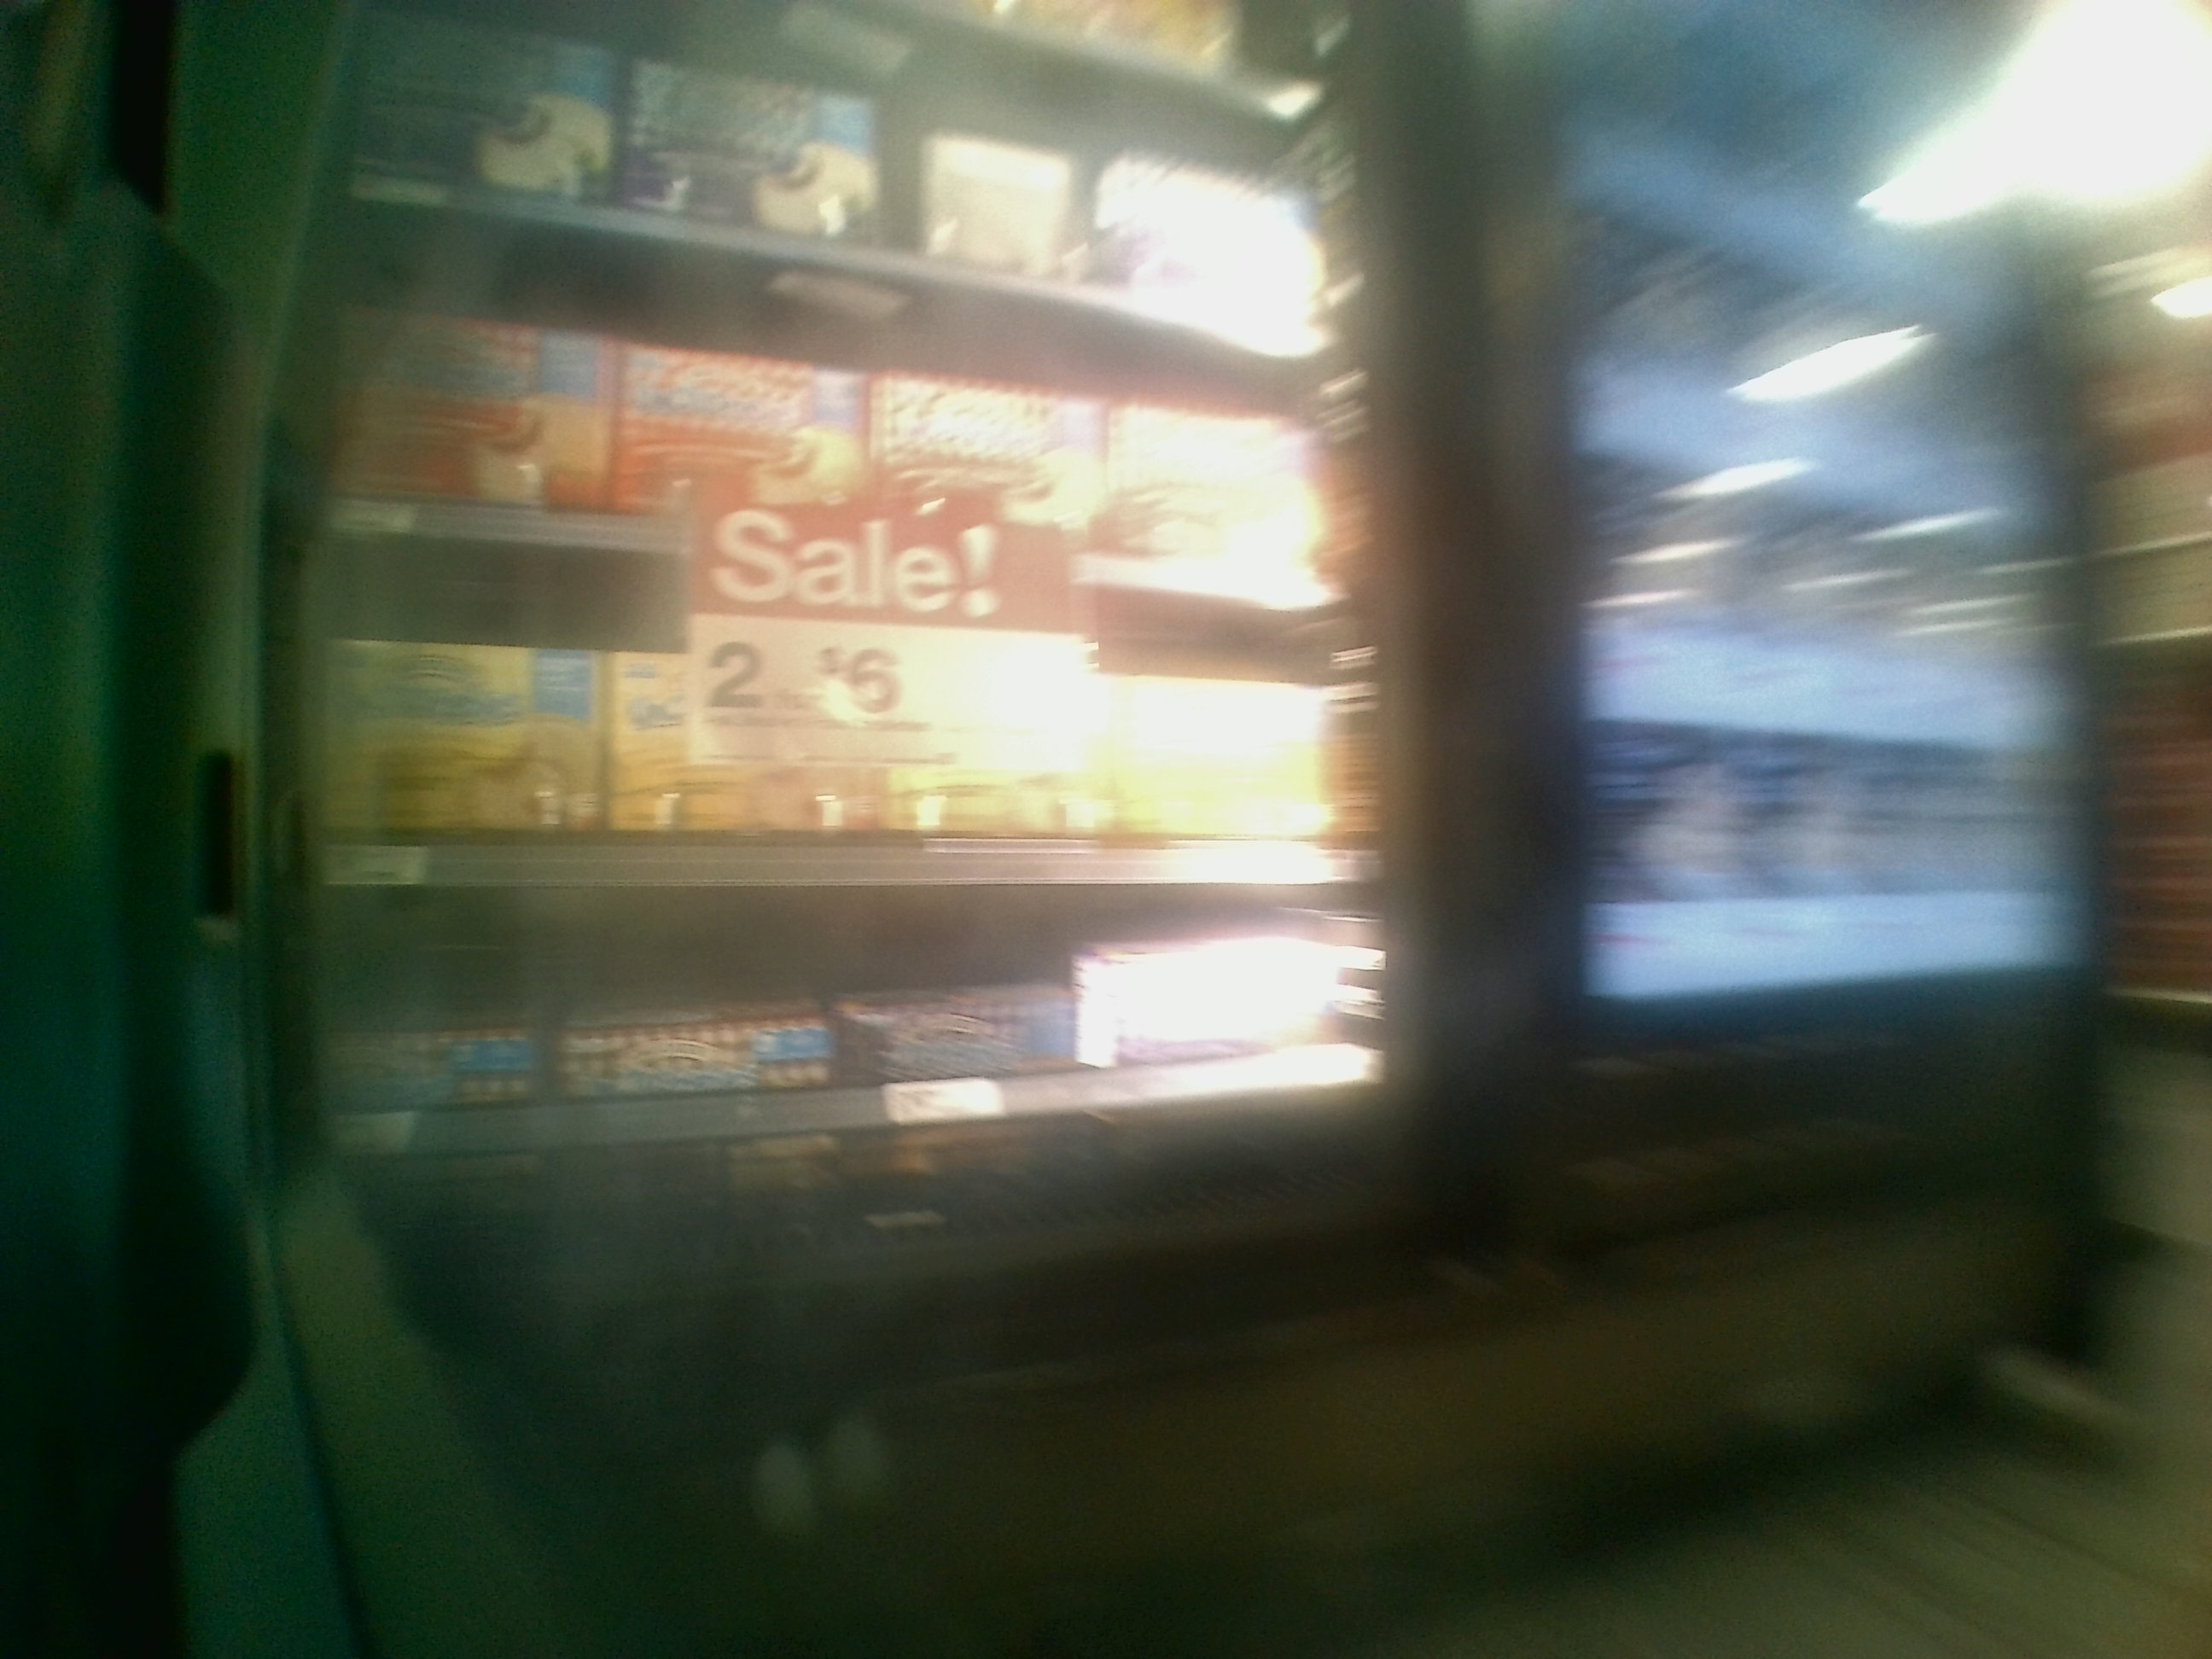shelf: (322, 833, 1390, 1288)
